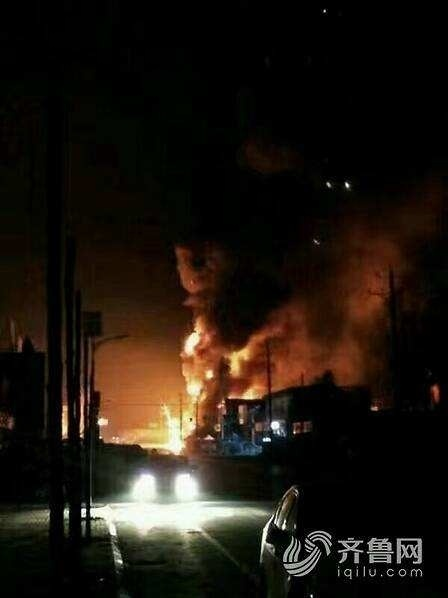fire: (160, 321, 269, 449)
